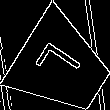L_SE: (34, 40, 91, 94)
